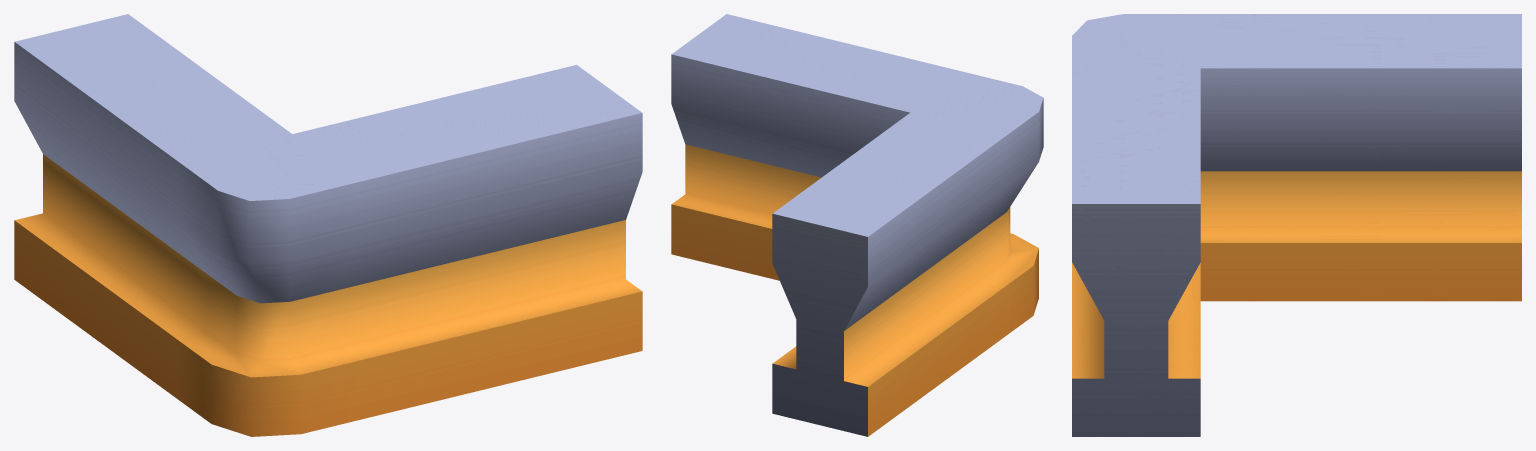
Rendered from kenney-space-station_balcony-rail-corner.glb.
3 views of the same model, side by side, from view 1: azimuth 30°, elevation 25°; view 2: azimuth 150°, elevation 25°; view 3: azimuth 270°, elevation 25° (orthographic). The views are drawn at different scales.
Visible parts, largest first — view 1: balcony-rail-corner; view 2: balcony-rail-corner; view 3: balcony-rail-corner.
Part boxes in pixels (box(x1,y1,x2,y2)): balcony-rail-corner: box(14, 14, 642, 436); balcony-rail-corner: box(671, 14, 1043, 436); balcony-rail-corner: box(1072, 14, 1521, 436).
Size of the model in its own units: 0.7 by 0.4 by 0.7.
1 material, 1 textured.
